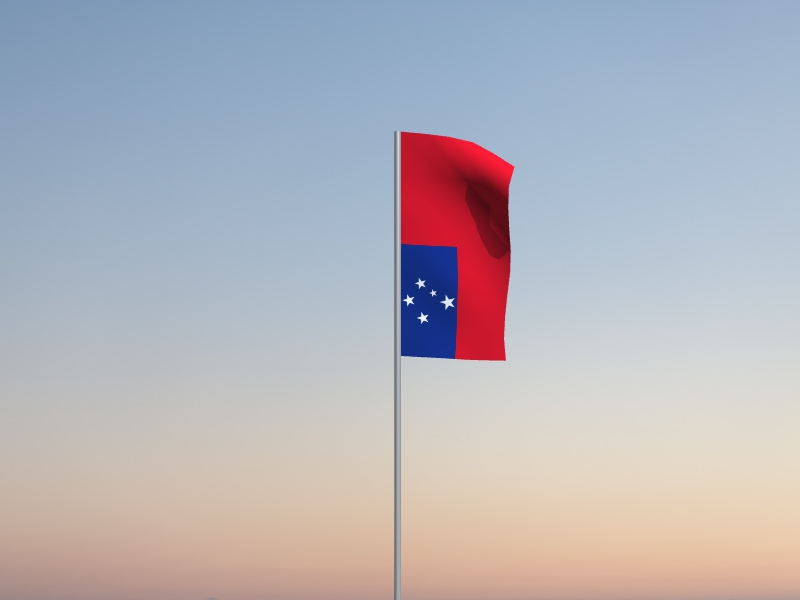ws: (401, 133, 516, 362)
